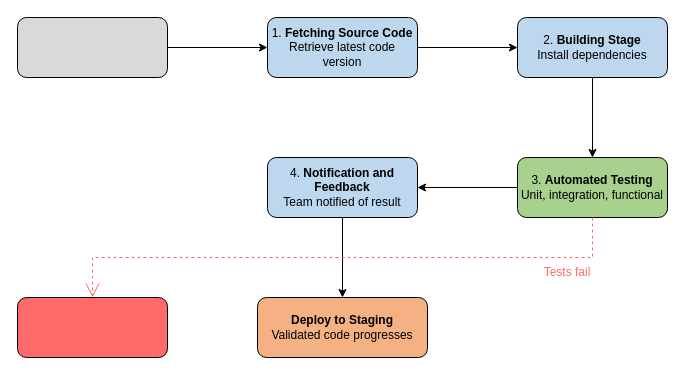
The diagram is 685 pixels wide and 375 high, and some of its shapes have lost their labels. The centre of each missing label's shape, as x and y in pixels:
Code Pushed To main / pull request: point 92,47
Pipeline Halts Fixes required: point 92,327
